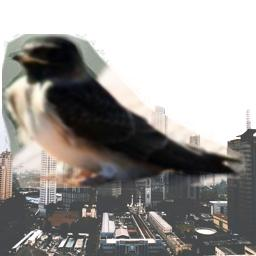Swallow: (2, 34, 249, 188)
